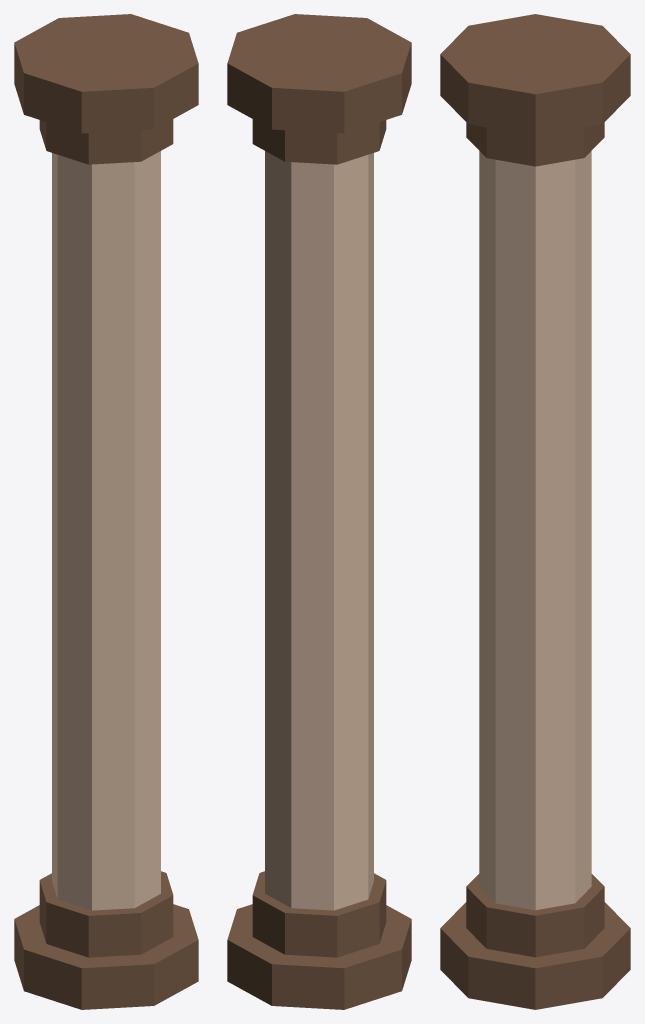
The model's file is Pillar_0.6_0.5_3_Colored.fbx.
3 renders of one model, left to right at view 1: azimuth 30°, elevation 25°; view 2: azimuth 150°, elevation 25°; view 3: azimuth 270°, elevation 25°, orthographic.
Parts seen in each view (by area): view 1: Pillar_0_6_0_5_3; view 2: Pillar_0_6_0_5_3; view 3: Pillar_0_6_0_5_3.
Part boxes in pixels (box(x1,y1,x2,y2)): Pillar_0_6_0_5_3: box(14, 14, 198, 1009); Pillar_0_6_0_5_3: box(227, 14, 411, 1009); Pillar_0_6_0_5_3: box(440, 14, 630, 1009).
Bounding box in the file's own units: 55.86 × 297 × 55.86.
